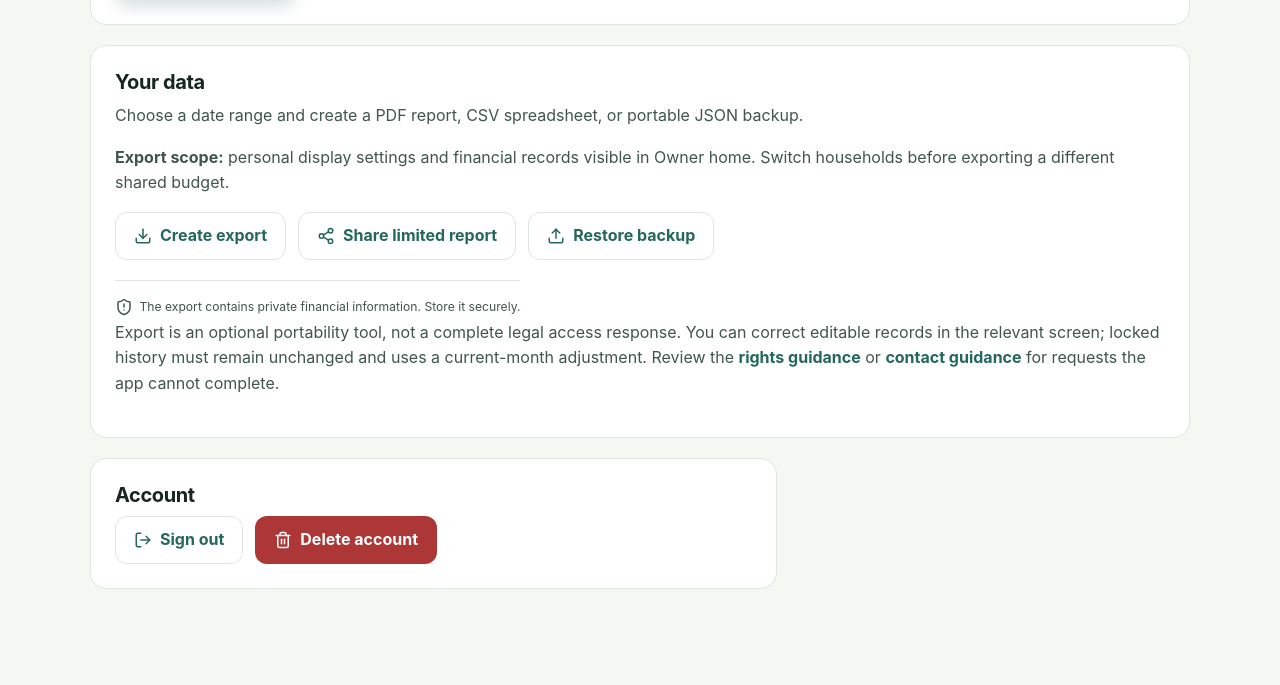
it: COMP-007 account deletion › does not describe successful deletion as a deletion failure when local cleanup fails
The width and height of the screenshot is (1280, 685).
(page scrolled)
Click the button "Delete account".
click(346, 540)  # box [255, 516, 437, 564]
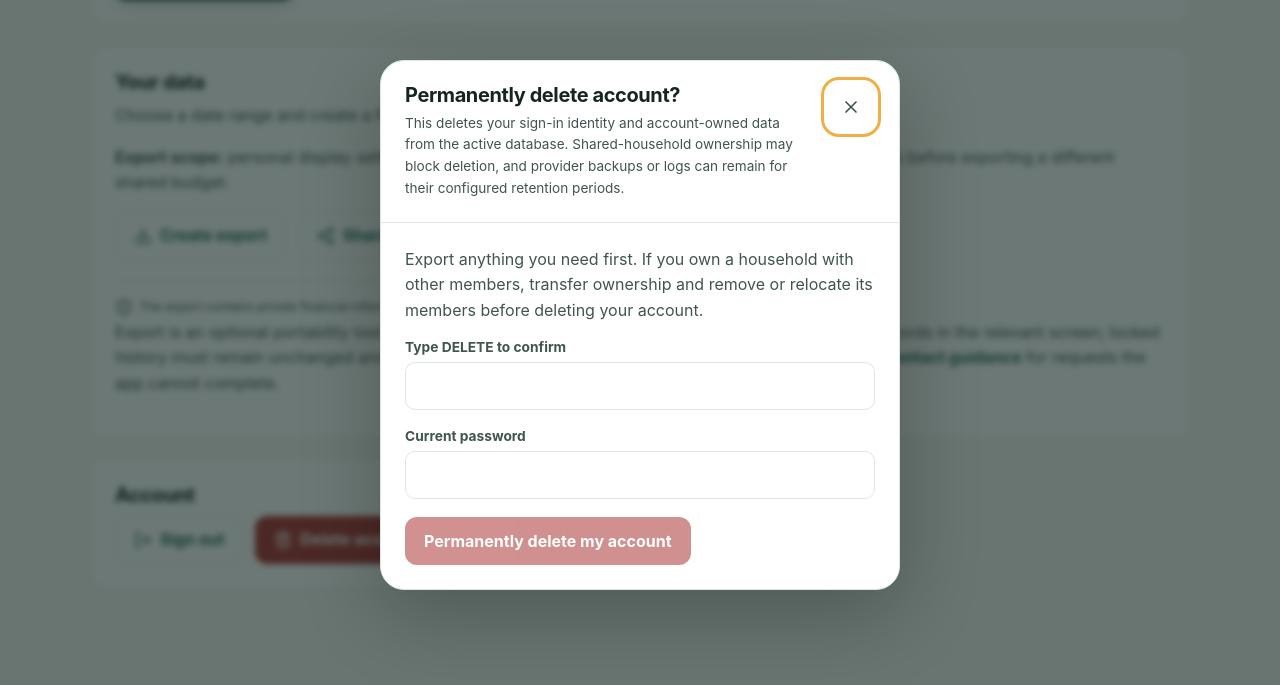
Type "DELETE" into the field labelled "Type DELETE to confirm".
click(640, 386); type("DELETE")  # box [405, 362, 875, 410]
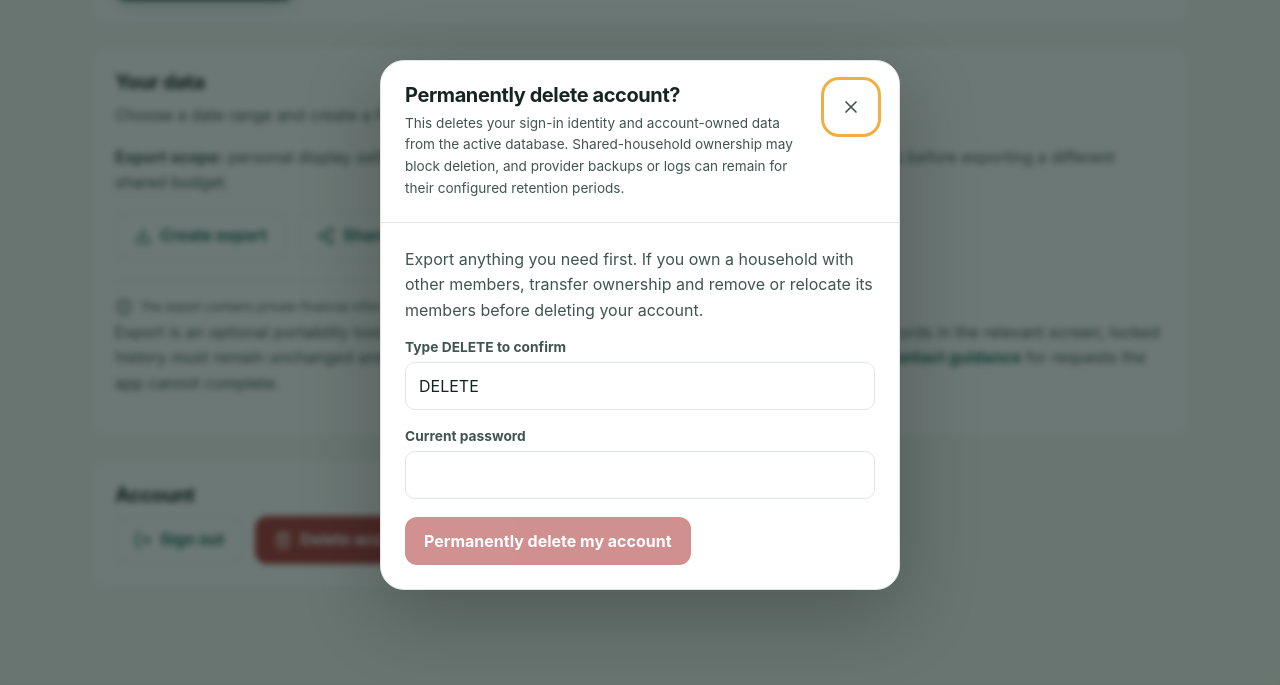
Type "correct horse battery staple" into the password field labelled "Current password".
click(640, 475); type("correct horse battery staple")  # box [405, 451, 875, 499]
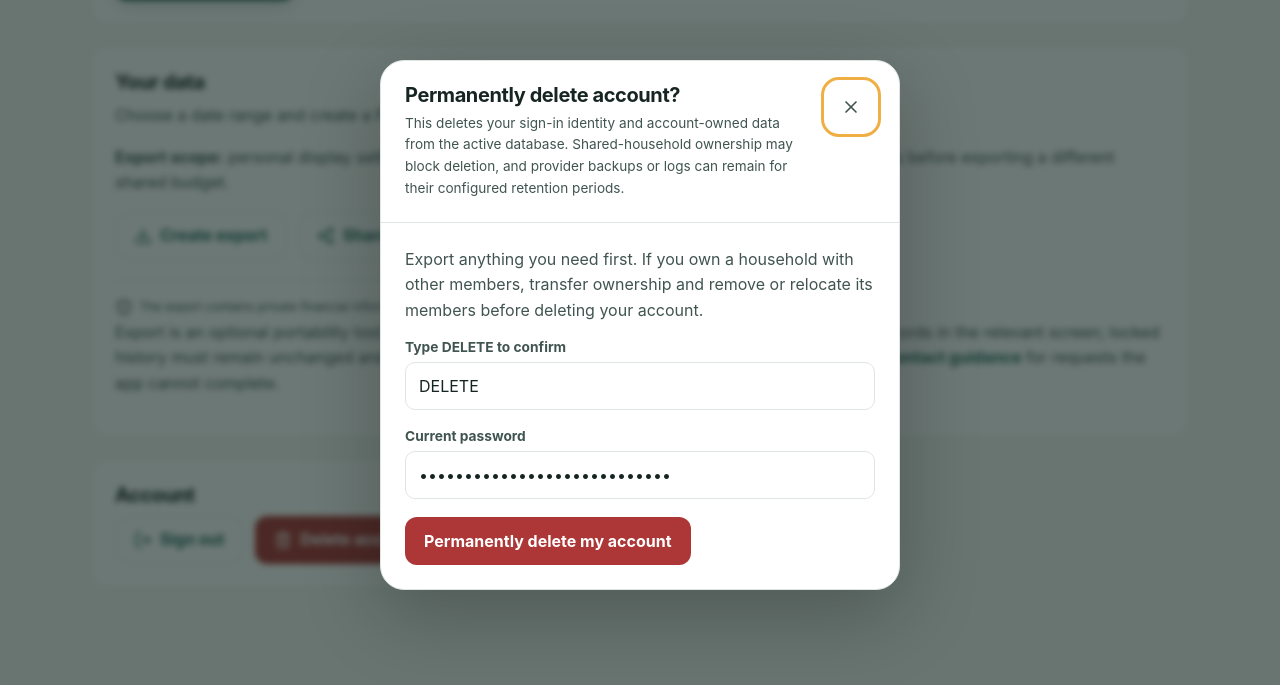
Click the button "Permanently delete my account".
click(548, 541)  # box [405, 517, 690, 565]
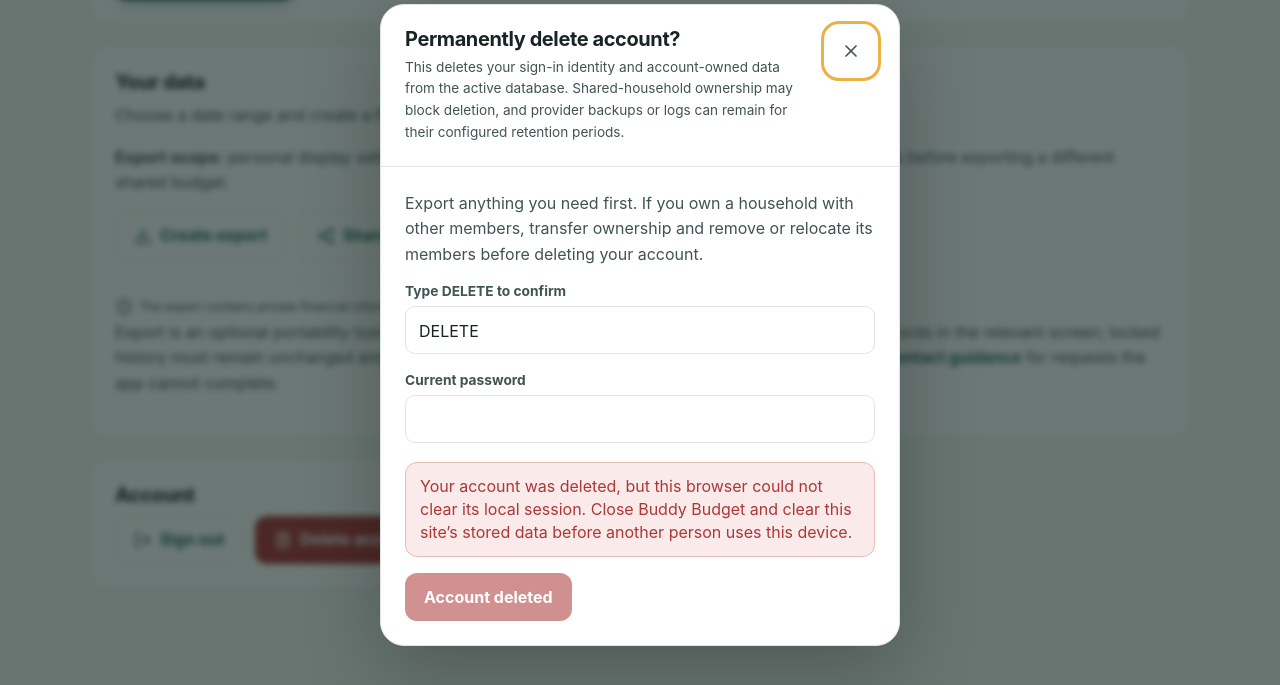
Now the message shows "account was deleted, but this browser could not clear its local session", box [420, 476, 852, 542]
Now the button "Account deleted" is disabled, box [405, 573, 572, 621]
